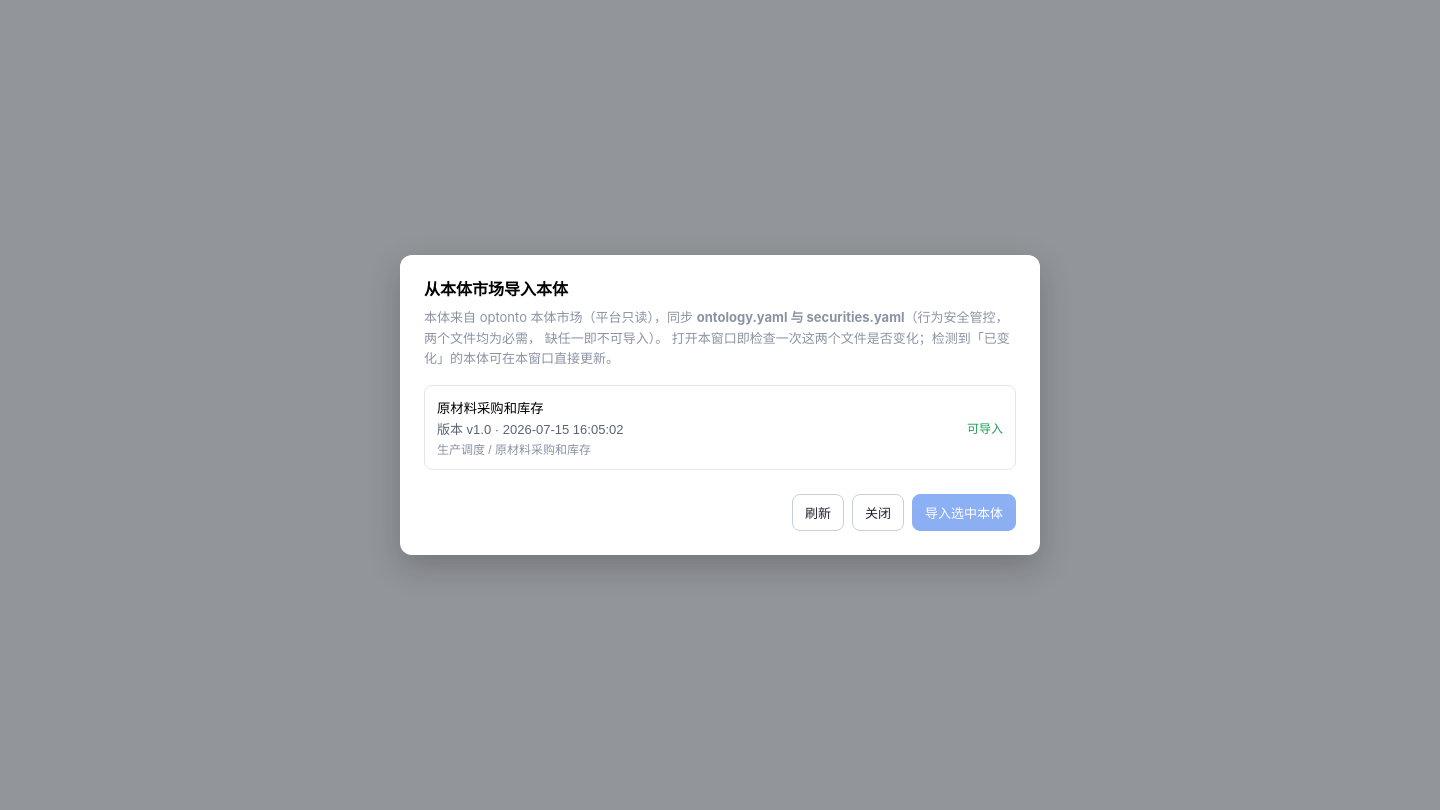
OntologyMarketDialog —— 导入 / 更新 › 失败不关窗：错误留在窗内，可再次操作
Step 1. Click the button with class "ontology-market__item" → [490, 410], box x1=424 y1=385 x2=1016 y2=470
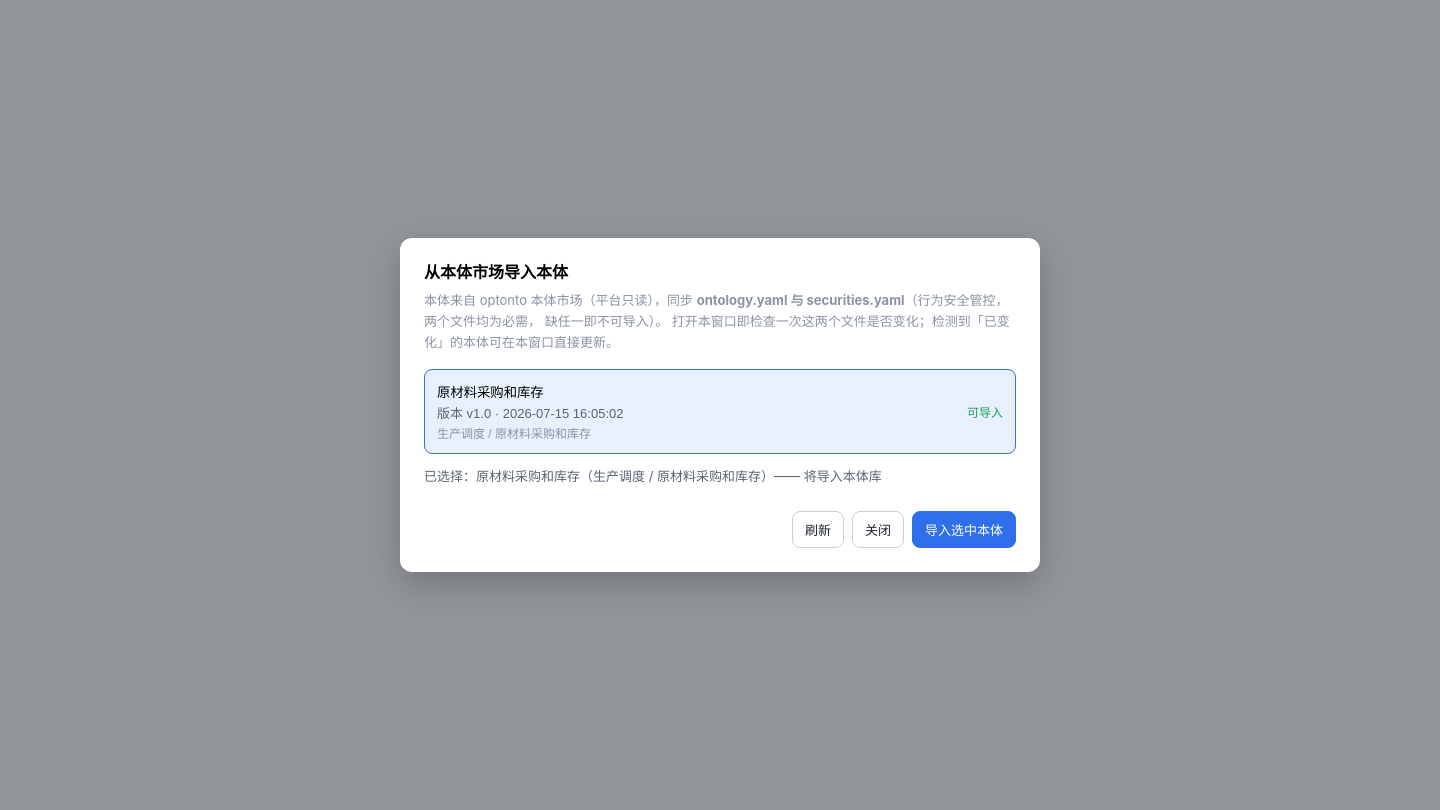
Step 2. Click the button with test id "import" → [964, 529], box x1=912 y1=511 x2=1016 y2=548
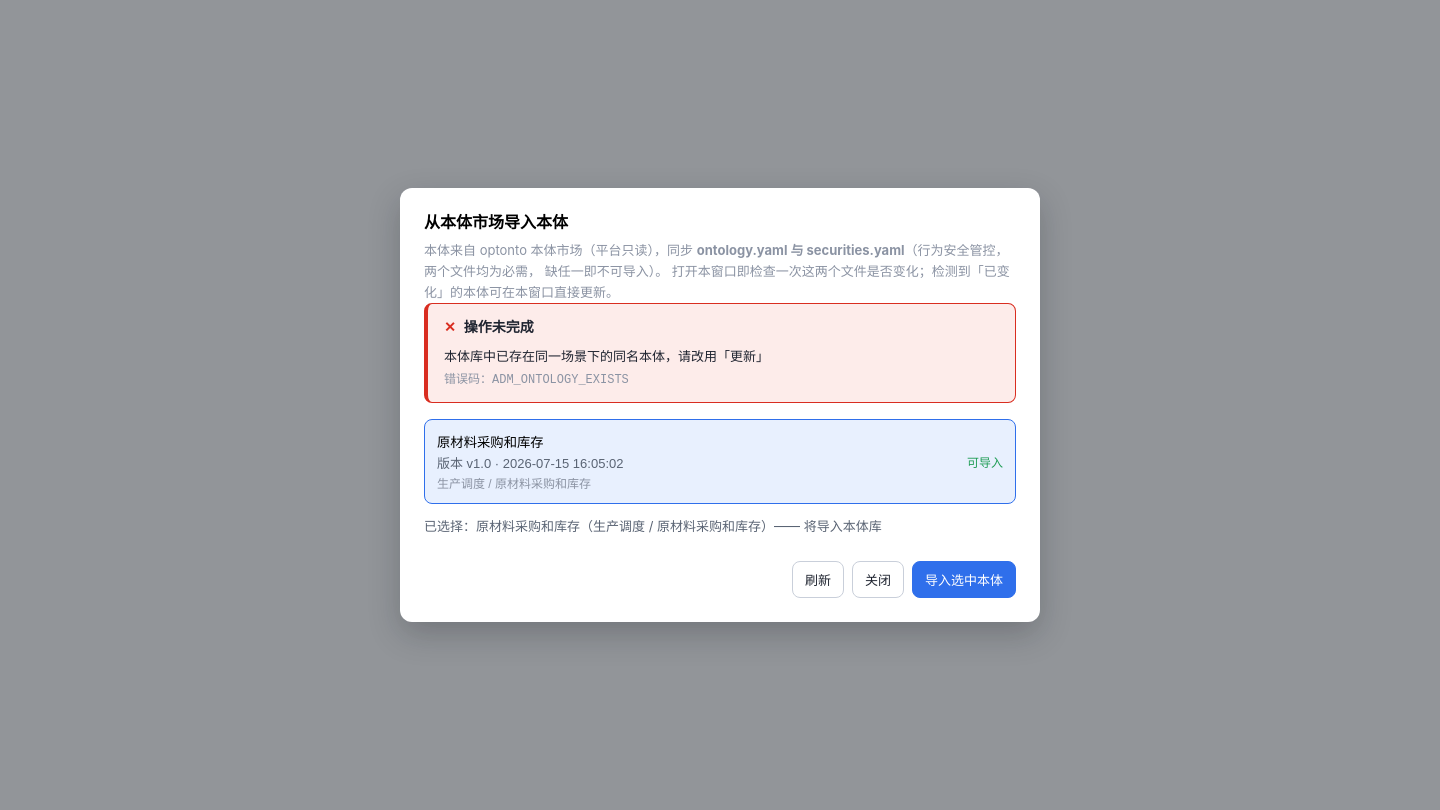
expect the button with test id "import" is enabled: met, box x1=912 y1=561 x2=1016 y2=598
expect the text "ADM_ONTOLOGY_EXISTS" is shown: met, box x1=444 y1=373 x2=629 y2=387
